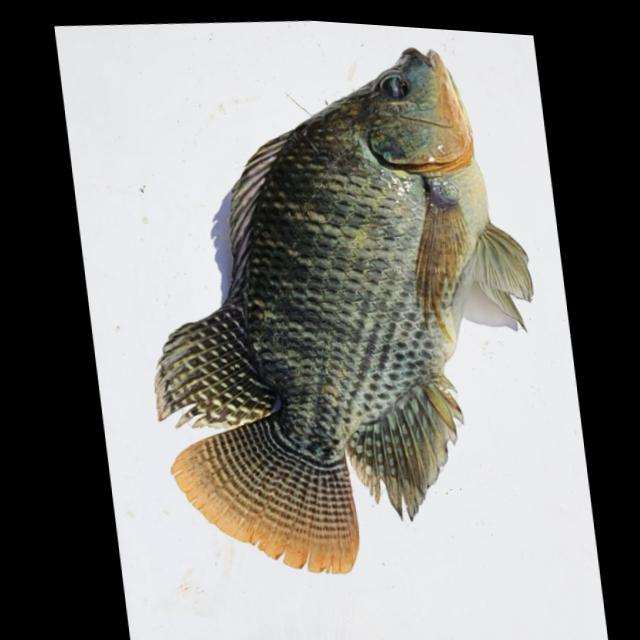Tilapia: (111, 15, 570, 605)
